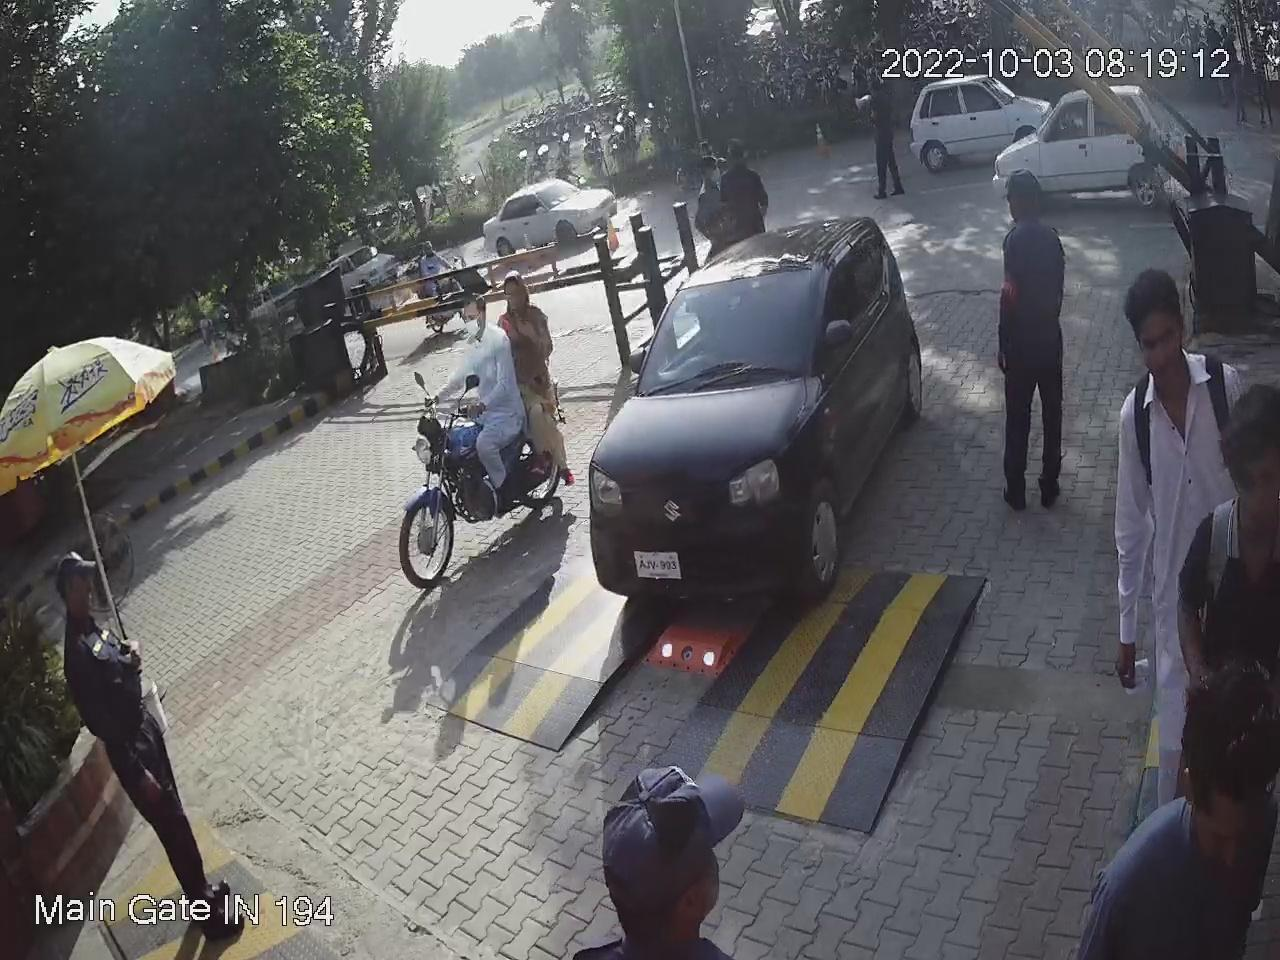windshield: (631, 260, 830, 402)
